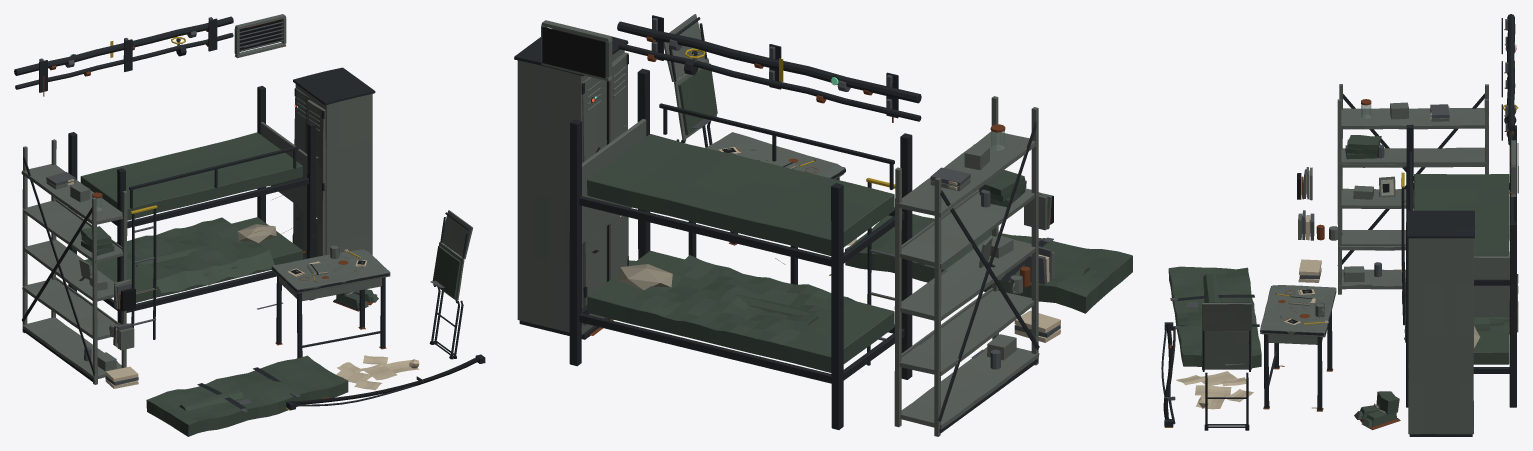
File: quarters_furniture.glb
3 renders of one model, left to right at view 1: azimuth 30°, elevation 25°; view 2: azimuth 150°, elevation 25°; view 3: azimuth 270°, elevation 25°, orthographic. The views are drawn at different scales.
Parts seen in each view (by area): view 1: bunk_bed, shelf_rack, locker, sleeping_bag, table_small, wall_pipes_small, chair_folded, vent_grille, papers_scattered, cable_bundle_floor, personal_boots; view 2: bunk_bed, shelf_rack, locker, sleeping_bag, wall_pipes_small, chair_folded, vent_grille, table_small; view 3: locker, shelf_rack, bunk_bed, sleeping_bag, table_small, chair_folded, papers_scattered, wall_pipes_small, personal_boots, cable_bundle_floor, vent_grille.
Part boxes in pixels (x1,y1,x2,y2): bunk_bed: (68,86,316,339); shelf_rack: (21,139,138,388); locker: (292,67,375,258); sleeping_bag: (146,355,348,436); table_small: (271,249,390,358); wall_pipes_small: (14,16,233,96); chair_folded: (429,210,472,359); vent_grille: (234,14,286,58); papers_scattered: (336,355,419,390); cable_bundle_floor: (286,354,485,410); personal_boots: (333,289,378,311); bunk_bed: (569,68,912,429); shelf_rack: (894,96,1060,436); locker: (514,28,628,339); sleeping_bag: (845,214,1132,313); wall_pipes_small: (617,15,921,122); chair_folded: (664,14,717,147); vent_grille: (541,20,612,81); table_small: (688,132,845,284); locker: (1407,210,1475,436); shelf_rack: (1297,84,1488,294); bunk_bed: (1401,124,1518,407); sleeping_bag: (1168,266,1261,368); table_small: (1260,285,1336,411); chair_folded: (1201,302,1251,430); papers_scattered: (1176,371,1253,409); wall_pipes_small: (1501,14,1518,145); personal_boots: (1354,391,1400,429); cable_bundle_floor: (1161,322,1175,427); vent_grille: (1508,140,1518,196).
Bounding box in the file's own units: 3.2 × 2.53 × 3.
